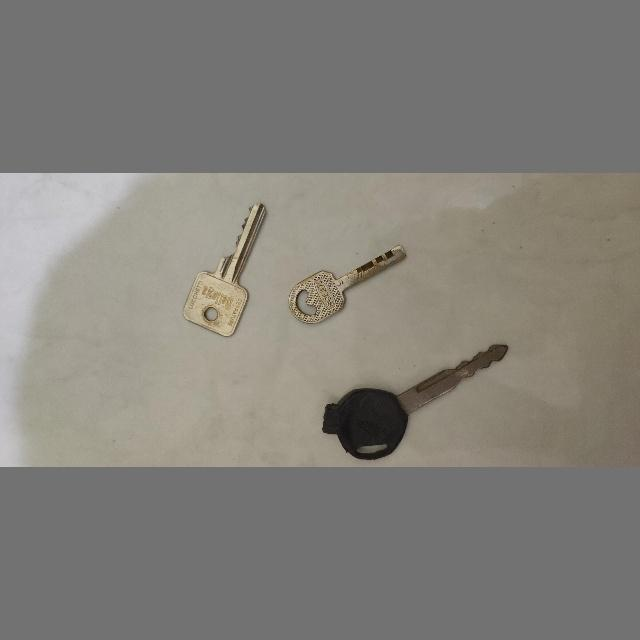Keys: (319, 339, 513, 461), (173, 198, 275, 342), (286, 244, 408, 332)
